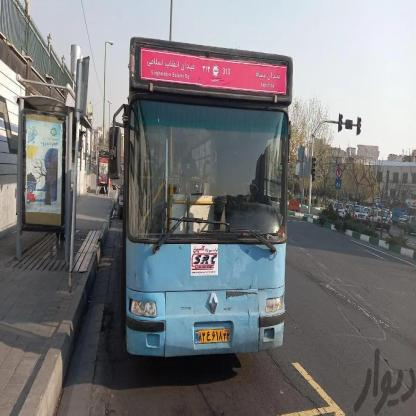Bus: (118, 30, 290, 384)
Car: (375, 202, 394, 232), (350, 211, 369, 233)
